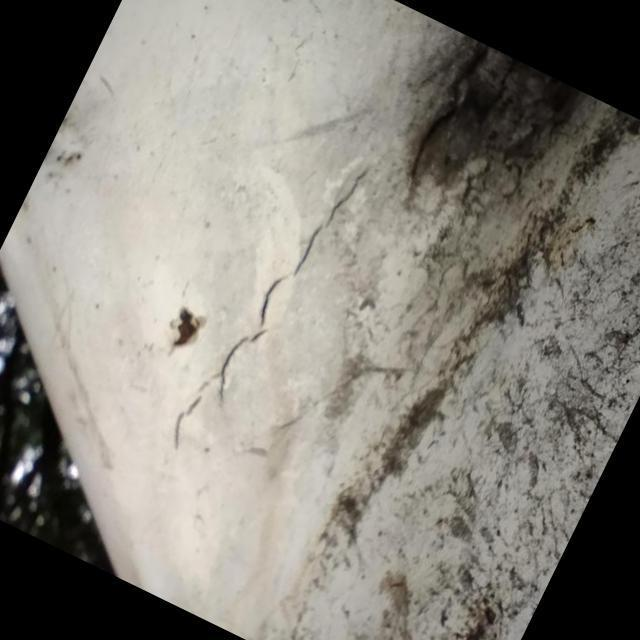defect: (168, 157, 374, 455)
